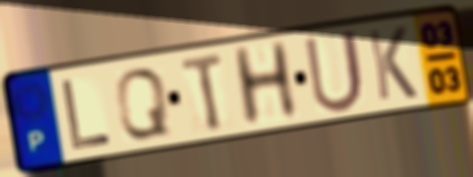H: (228, 37, 302, 130)
K: (364, 24, 421, 104)
L: (58, 76, 115, 153)
Q: (113, 65, 174, 142)
T: (178, 49, 227, 134)
U: (300, 25, 367, 116)
